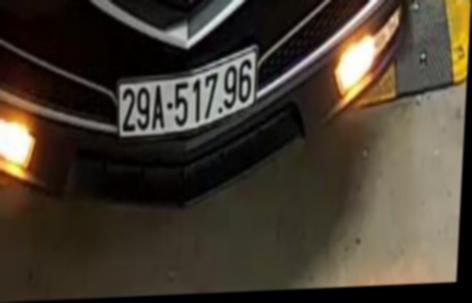License_Plate: (101, 52, 273, 143)
